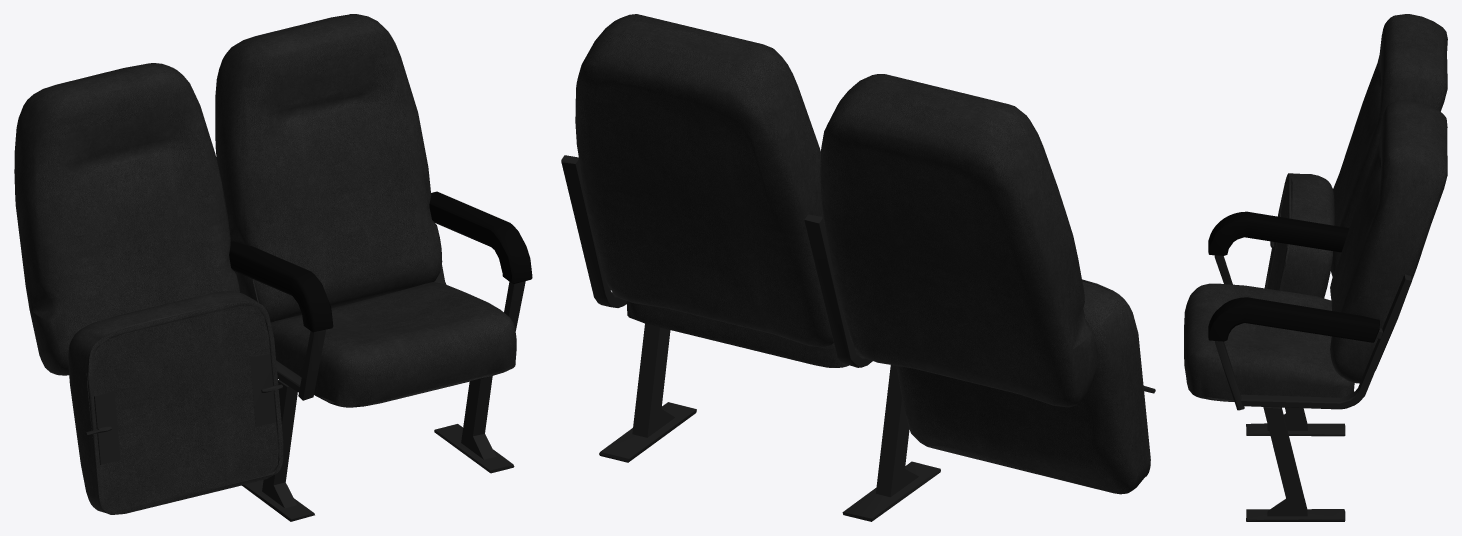
Rendered from Chairs 1.FBX.
3 views of the same model, side by side, from view 1: azimuth 30°, elevation 25°; view 2: azimuth 150°, elevation 25°; view 3: azimuth 270°, elevation 25° (orthographic). The views are drawn at different scales.
Visible parts, largest first — view 1: chairs 1; view 2: chairs 1; view 3: chairs 1.
Boxes of the visible parts, bbox=[...] form: chairs 1: bbox=[14, 14, 532, 521]; chairs 1: bbox=[561, 14, 1155, 521]; chairs 1: bbox=[1184, 14, 1447, 521].
Bounding box in the file's own units: 98.53 × 90.94 × 61.86.
Materials: 3 (1 with a texture image).
